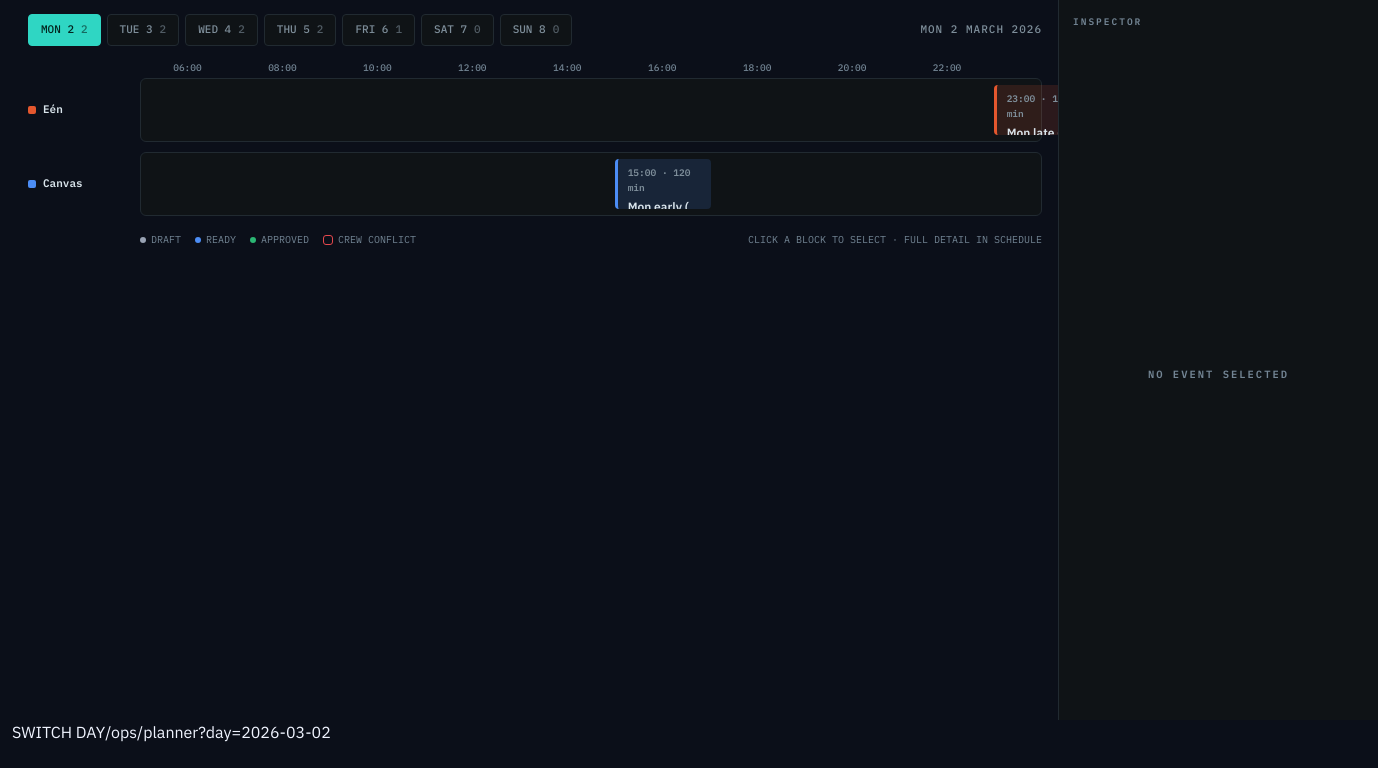
Test: selection + inspector (ADR-014 shared selection; EventInspector v1 embed) › selection changes never refetch (contracts, channels AND slots fetched once) — AC: no full-screen re-render
Click the button with aria-label "Mon early (EXPIRING, crew OK, API-shaped ISO datetime) · 15:": (663, 184) [615,159,711,209]
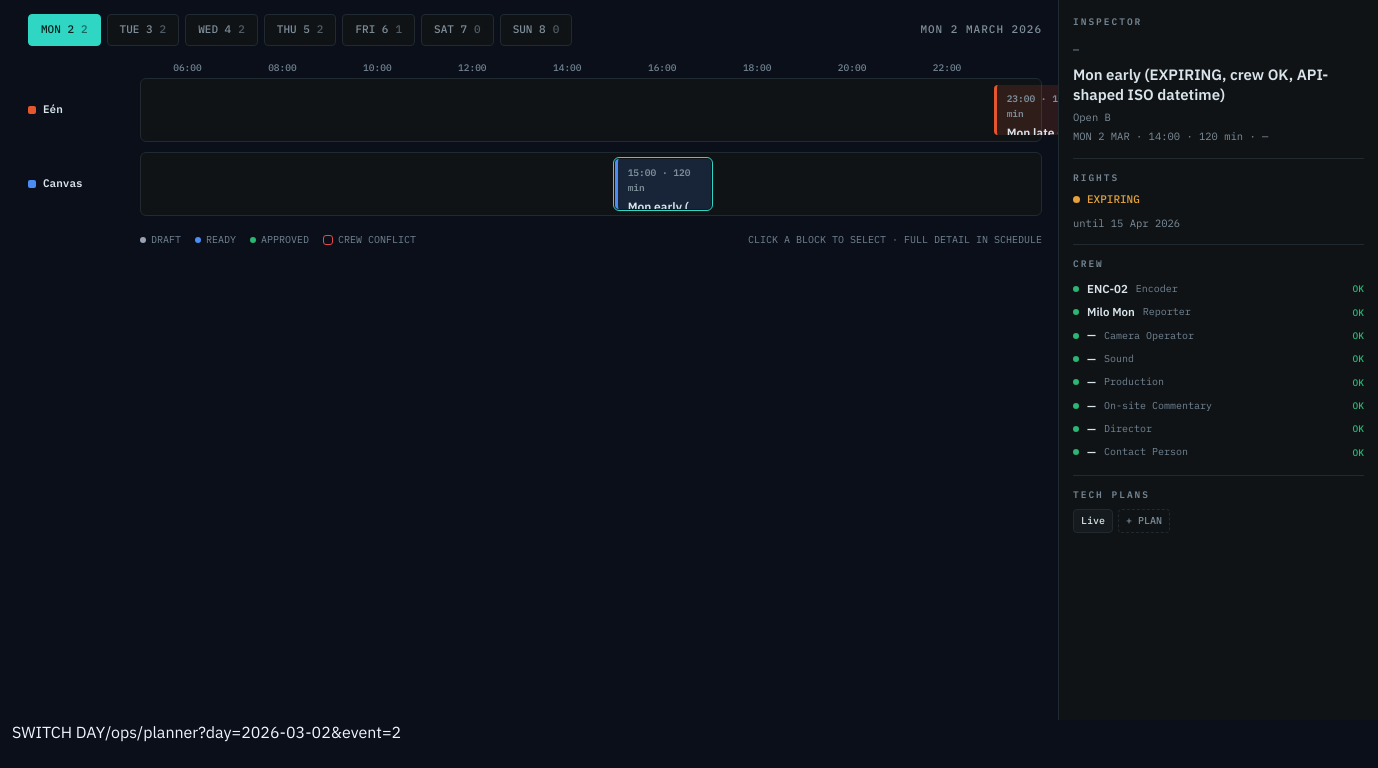
Click the button "23:00 · 150 min Mon late (VALID, crew OK)": (1042, 110) [994,85,1090,135]
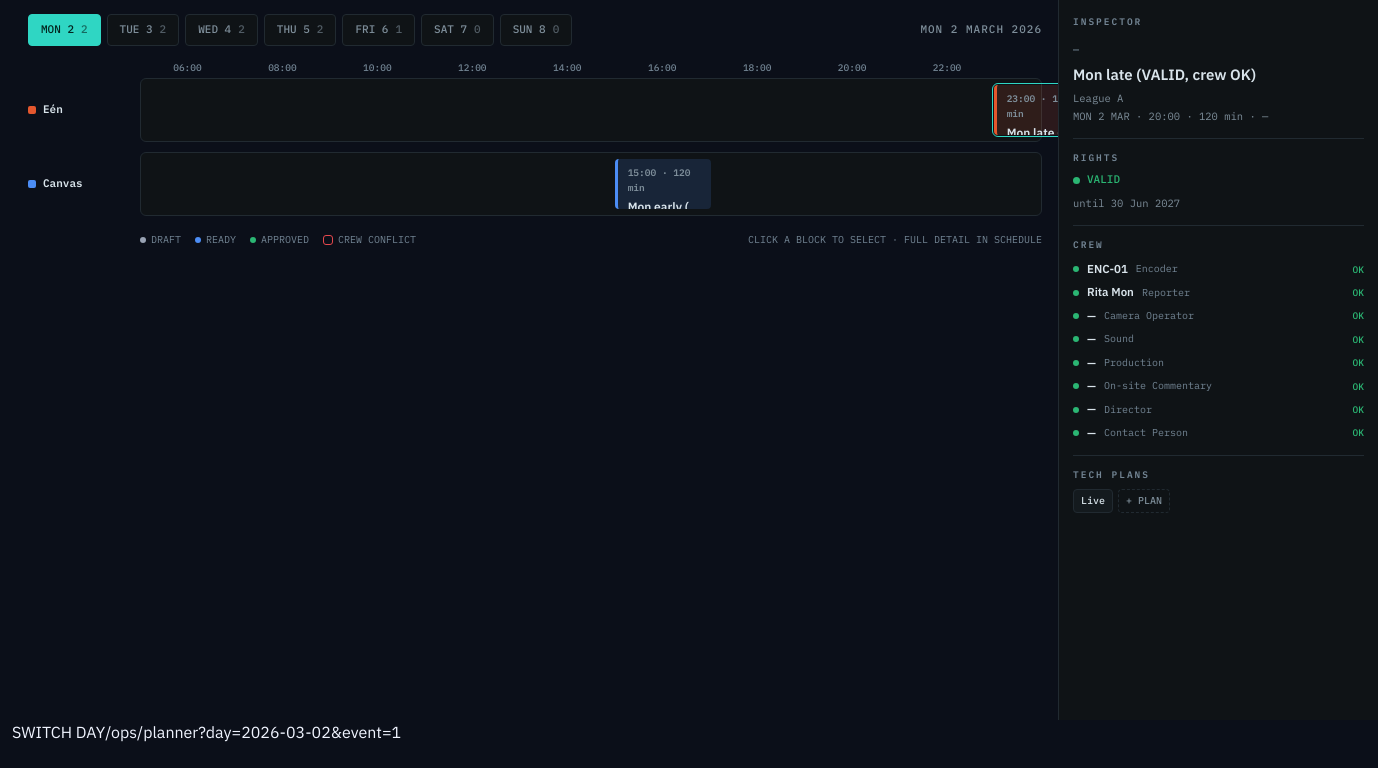
Result: the text with test id "ops-inspector-title" shows "Mon late" at [1073,65,1256,84]
